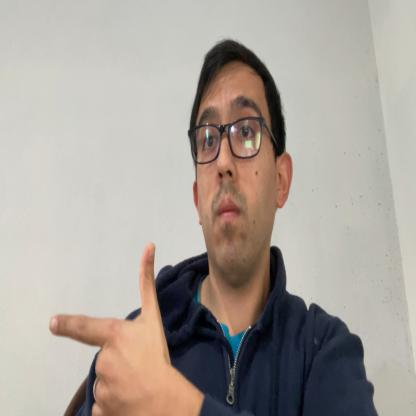G: (49, 242, 168, 415)
